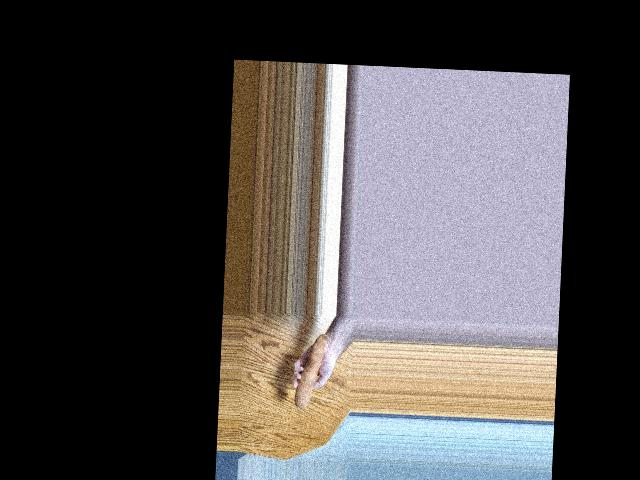sweet_potato: (292, 336, 324, 406)
